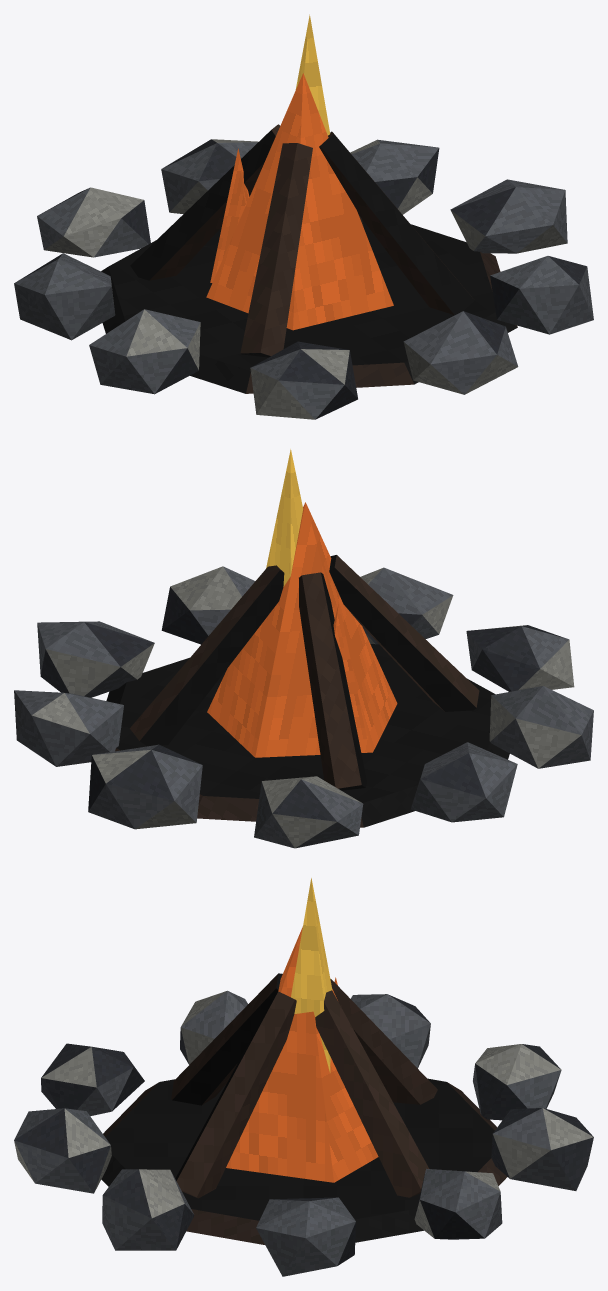
File: campfire.glb
3 renders of one model, top to bottom at view 1: azimuth 30°, elevation 25°; view 2: azimuth 150°, elevation 25°; view 3: azimuth 270°, elevation 25°, orthographic.
Visible parts, largest first — view 1: campfire; view 2: campfire; view 3: campfire.
Boxes of the visible parts, x1=… form: campfire: x1=14, y1=14, x2=593, y2=419; campfire: x1=14, y1=449, x2=593, y2=848; campfire: x1=14, y1=878, x2=593, y2=1276.
Bounding box in the file's own units: 1.45 × 0.7798 × 1.43.
2 materials, 2 textured.
